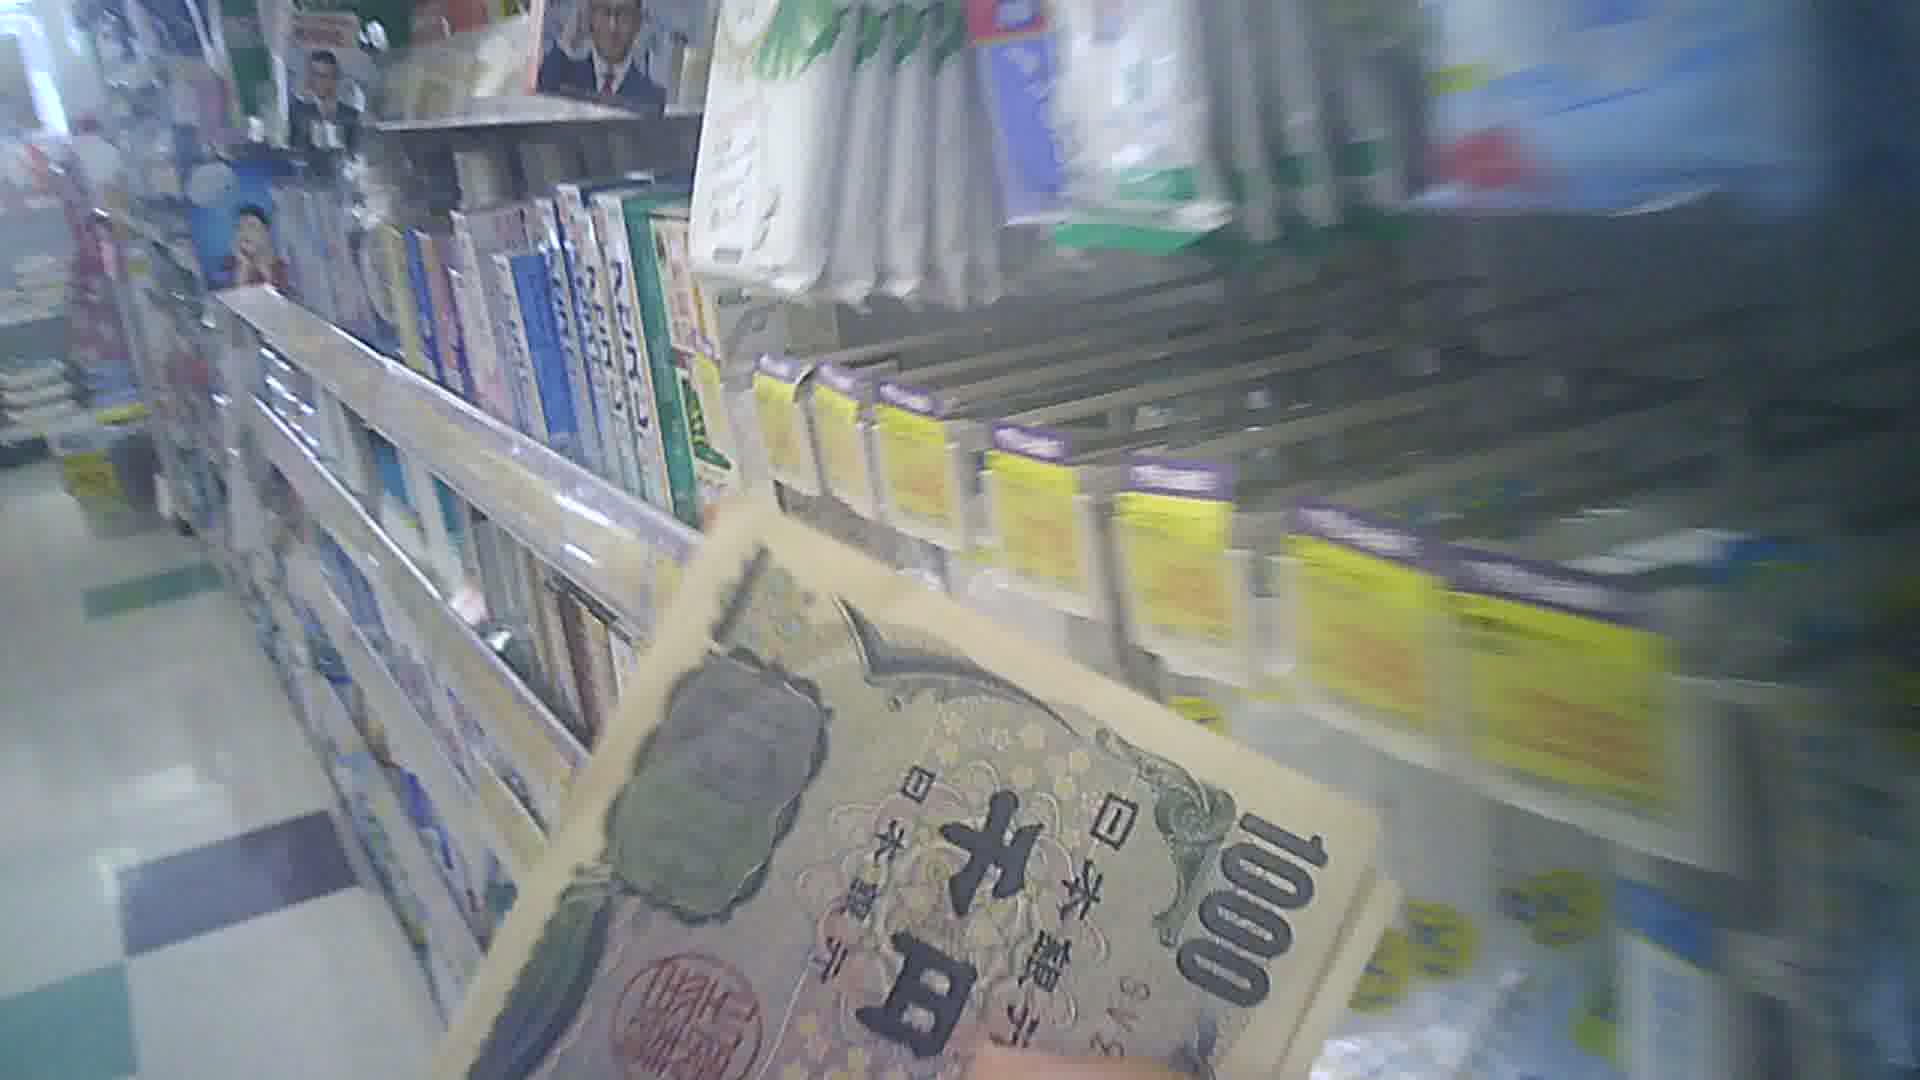1,000 Yen: (501, 508, 1358, 1079)
